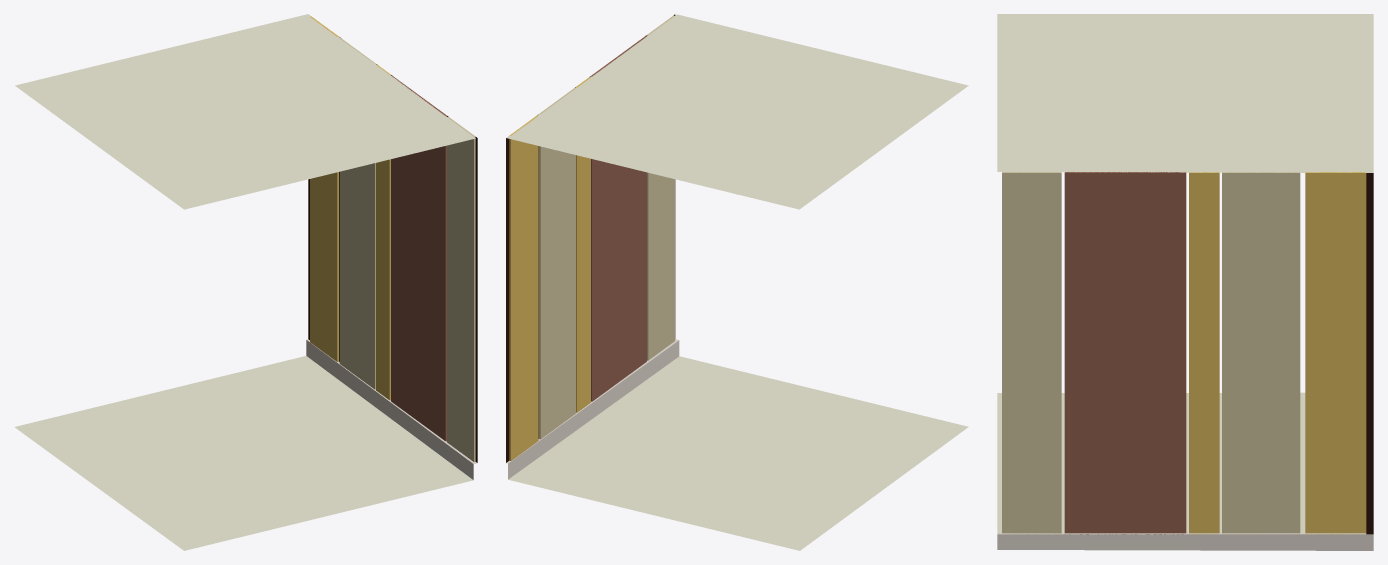
File: Room Edge (Untextured).fbx
The picture shows the model from 3 angles, left to right: view 1: azimuth 30°, elevation 25°; view 2: azimuth 150°, elevation 25°; view 3: azimuth 270°, elevation 25°; orthographic projection. The views are drawn at different scales.
Visible parts, largest first — view 1: pasted__roomCorner9; view 2: pasted__roomCorner9; view 3: pasted__roomCorner9.
Boxes of the visible parts, left/top/right/bottom form: pasted__roomCorner9: left=14, top=14, right=477, bottom=550; pasted__roomCorner9: left=506, top=14, right=968, bottom=550; pasted__roomCorner9: left=997, top=14, right=1373, bottom=550.
Size of the model in its own units: 338 by 375 by 338.
